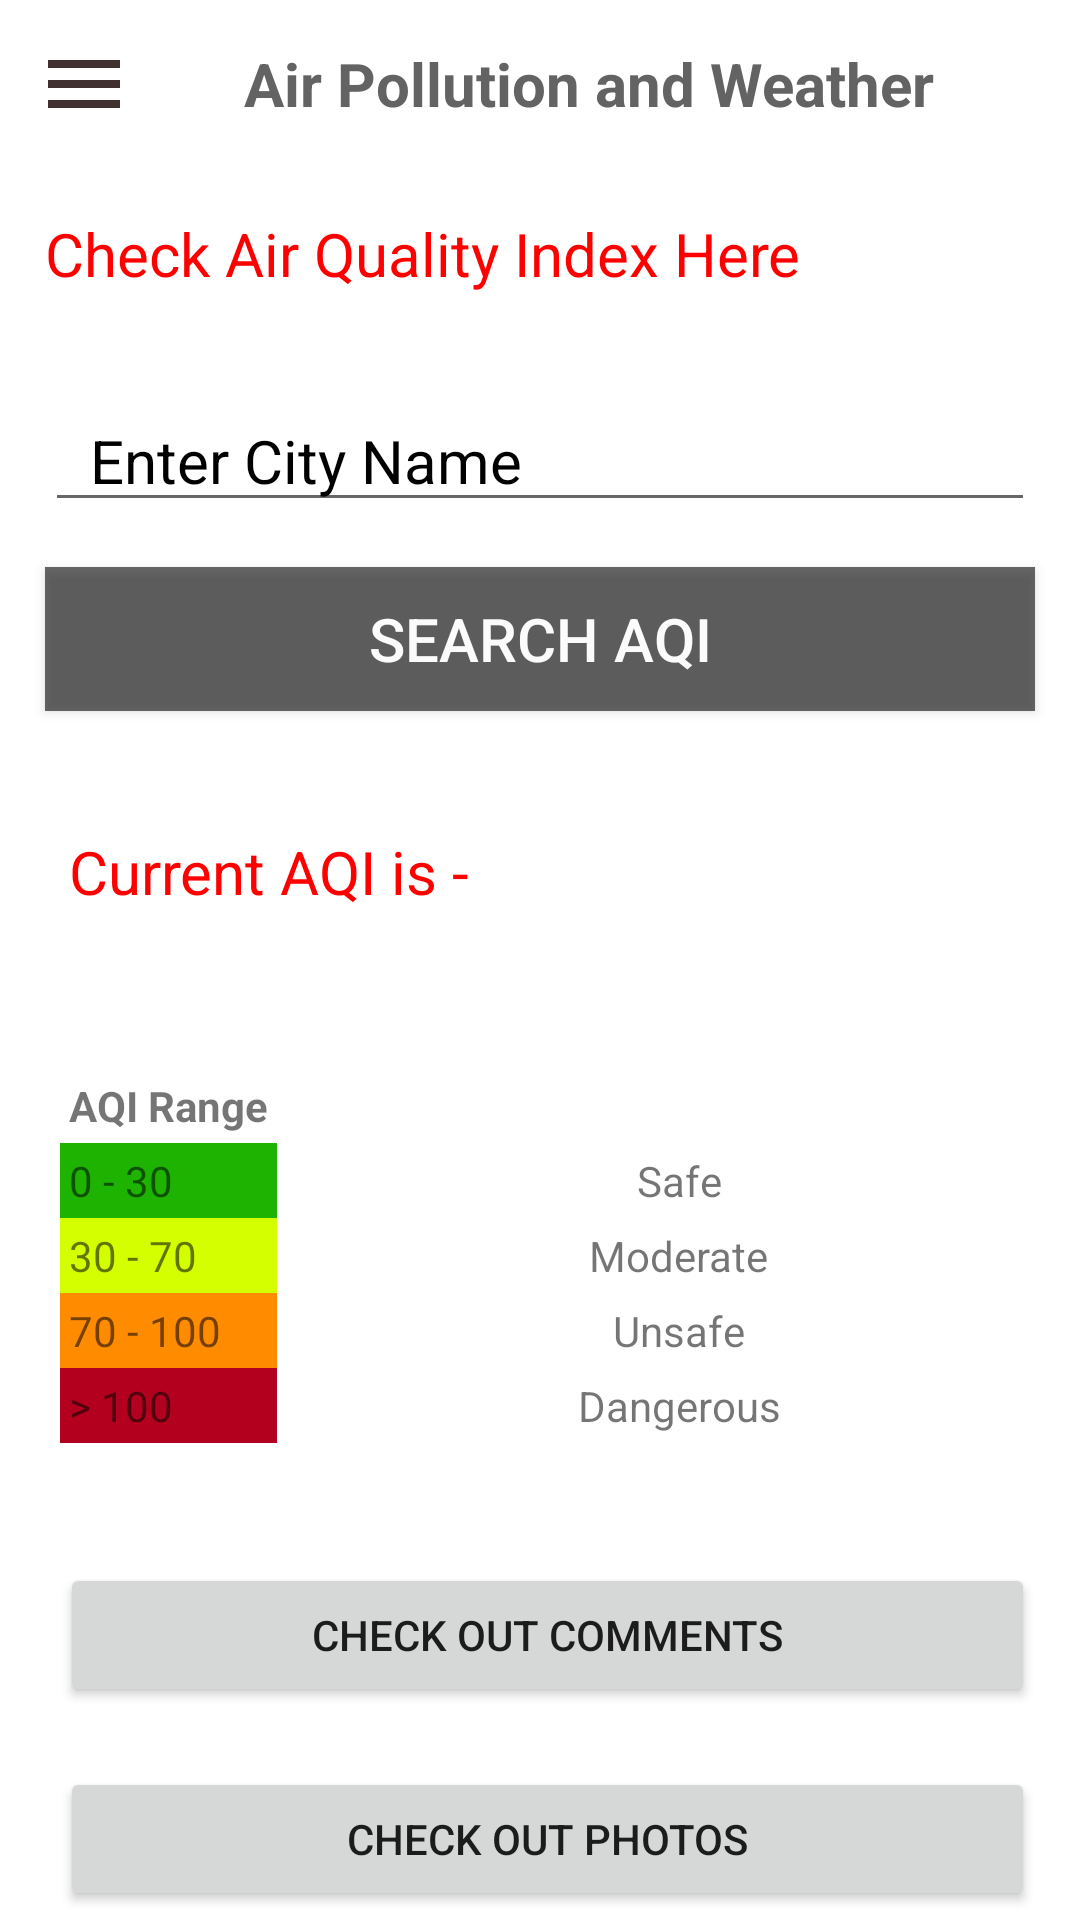

Named icons in this screenshot (1080px x 1920px) and their centers, (x,y):
menu: (84,84)
